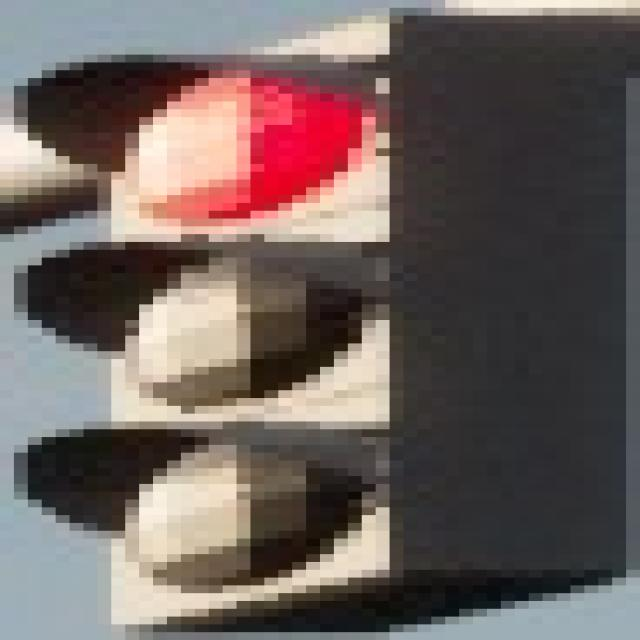red_light: (8, 27, 640, 627)
